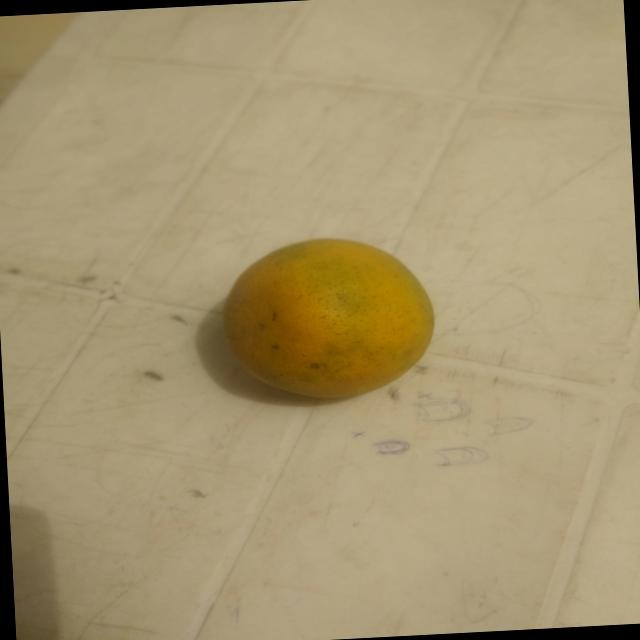agrume: (192, 225, 463, 430)
